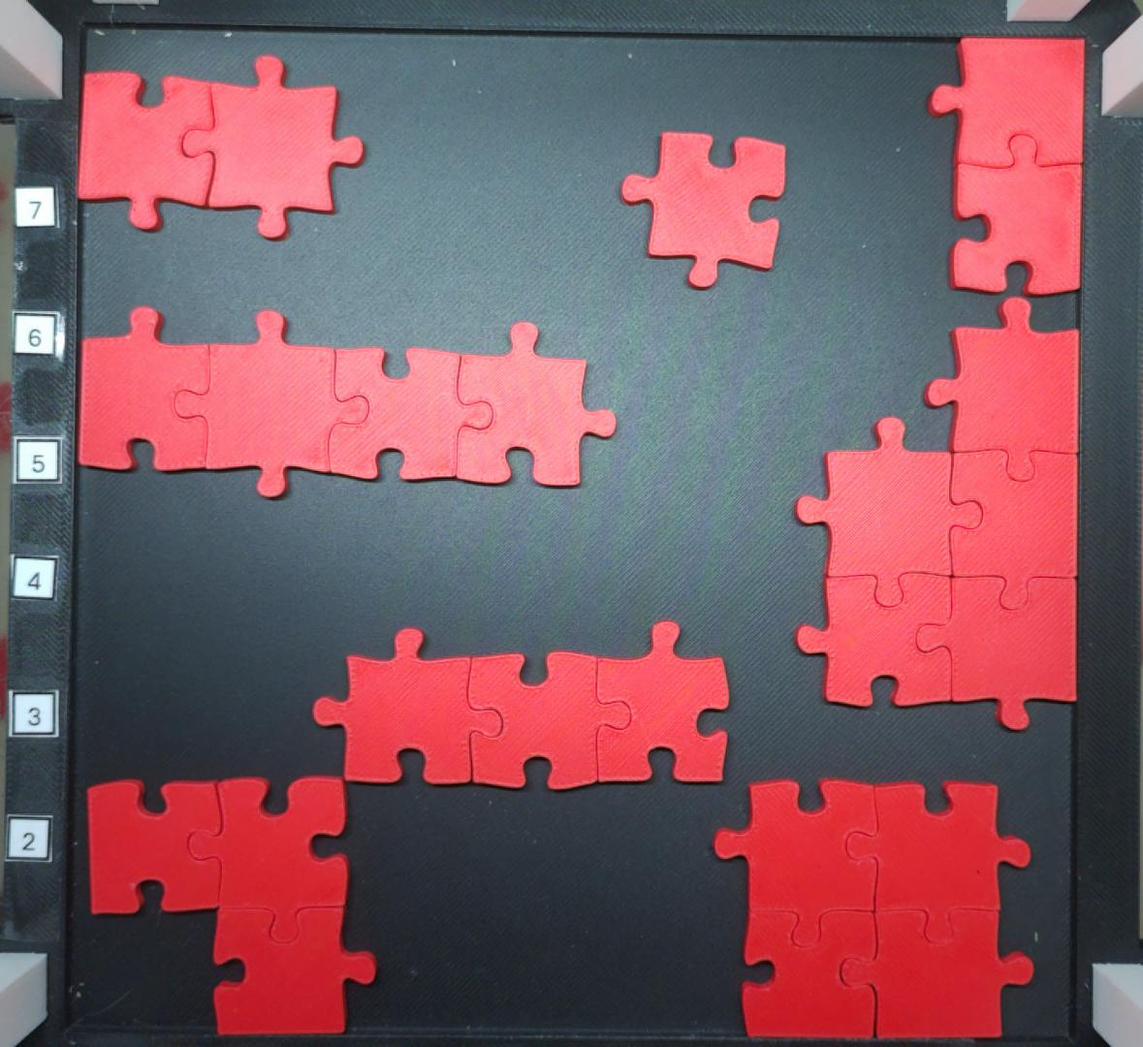p_1: (619, 127, 789, 288)
p_2: (79, 50, 365, 234), (930, 38, 1084, 293)
p_3: (88, 775, 379, 1032), (308, 620, 733, 794)
p_4: (74, 302, 618, 509), (714, 779, 1033, 1036)
p_m: (794, 295, 1082, 728)
